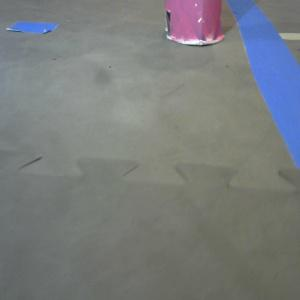right: (163, 1, 226, 47)
